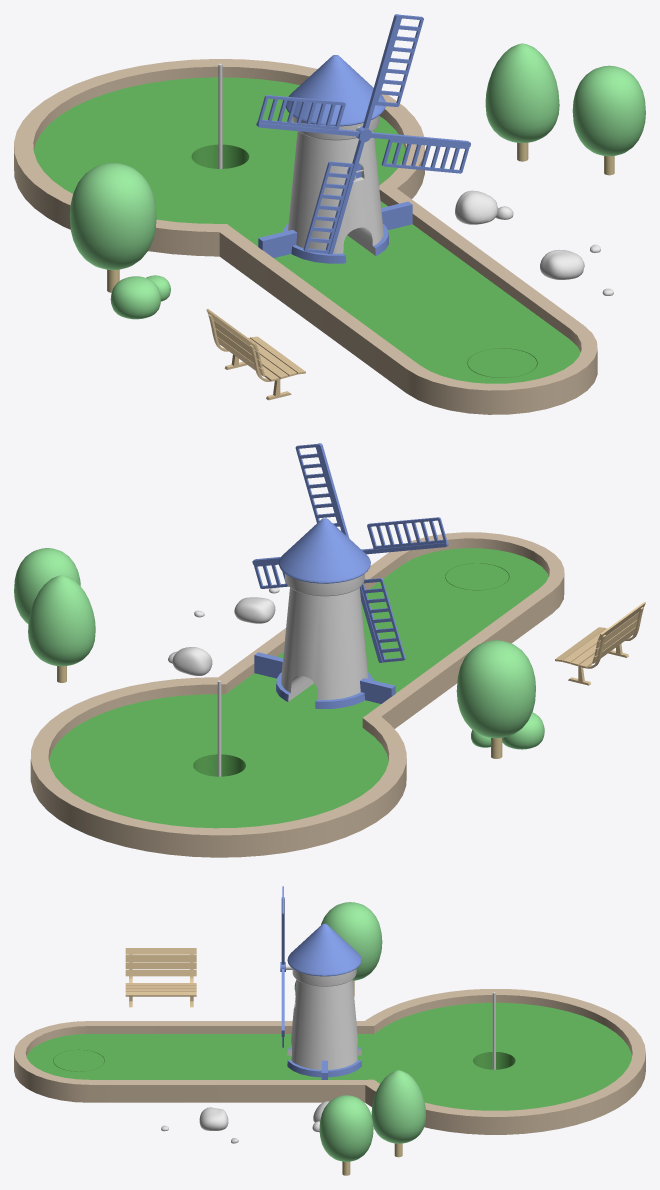
The model's file is Windmill03.glb.
3 views of the same model, one above another, from view 1: azimuth 30°, elevation 25°; view 2: azimuth 150°, elevation 25°; view 3: azimuth 270°, elevation 25° (orthographic). The views are drawn at different scales.
Visible parts, largest first — view 1: Goal, Start, Tree, Windmill, Fan, Bench, Rock, Bush, Flip, Wall; view 2: Goal, Start, Tree, Windmill, Fan, Bench, Rock, Flip, Wall, Bush; view 3: Goal, Start, Windmill, Tree, Bench, Rock, Flip, Fan.
Boxes of the visible parts, box(x1,y1,x2,y2) form: Goal: box(14, 59, 424, 256); Start: box(219, 189, 597, 414); Tree: box(69, 43, 645, 292); Windmill: box(283, 55, 388, 263); Fan: box(256, 14, 470, 254); Bench: box(206, 309, 305, 400); Rock: box(455, 190, 613, 295); Bush: box(110, 275, 170, 319); Flip: box(468, 348, 536, 377); Wall: box(258, 201, 412, 257); Goal: box(30, 677, 406, 857); Start: box(219, 532, 564, 728); Tree: box(14, 548, 535, 758); Windmill: box(276, 518, 372, 708); Fan: box(252, 443, 448, 662); Bench: box(555, 602, 645, 685); Rock: box(168, 587, 279, 675); Flip: box(445, 563, 508, 590); Wall: box(254, 652, 395, 703); Bush: box(471, 712, 544, 749); Goal: box(364, 989, 645, 1134); Start: box(14, 1021, 368, 1102); Windmill: box(287, 923, 361, 1077); Tree: box(319, 902, 426, 1175); Bench: box(125, 948, 196, 1007); Rock: box(161, 1101, 329, 1143); Flip: box(53, 1050, 104, 1071); Fan: box(280, 886, 285, 1047).
Bounding box in the file's own units: 5.56 × 2.56 × 7.34.
